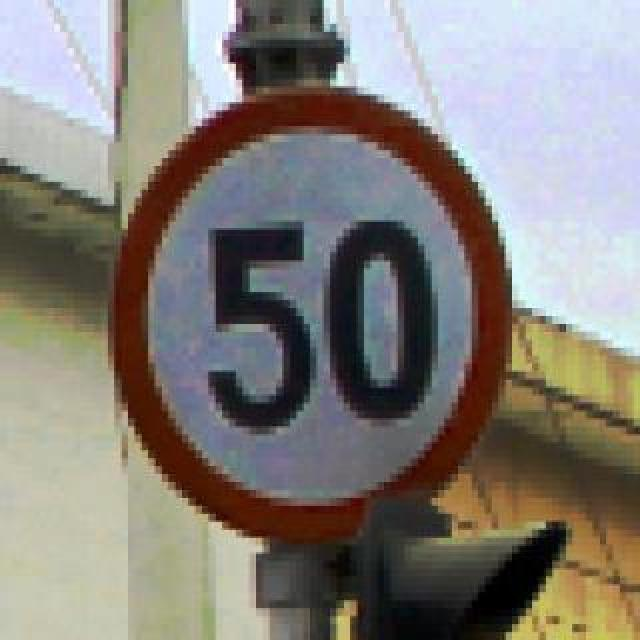50 kph: (102, 80, 506, 546)
